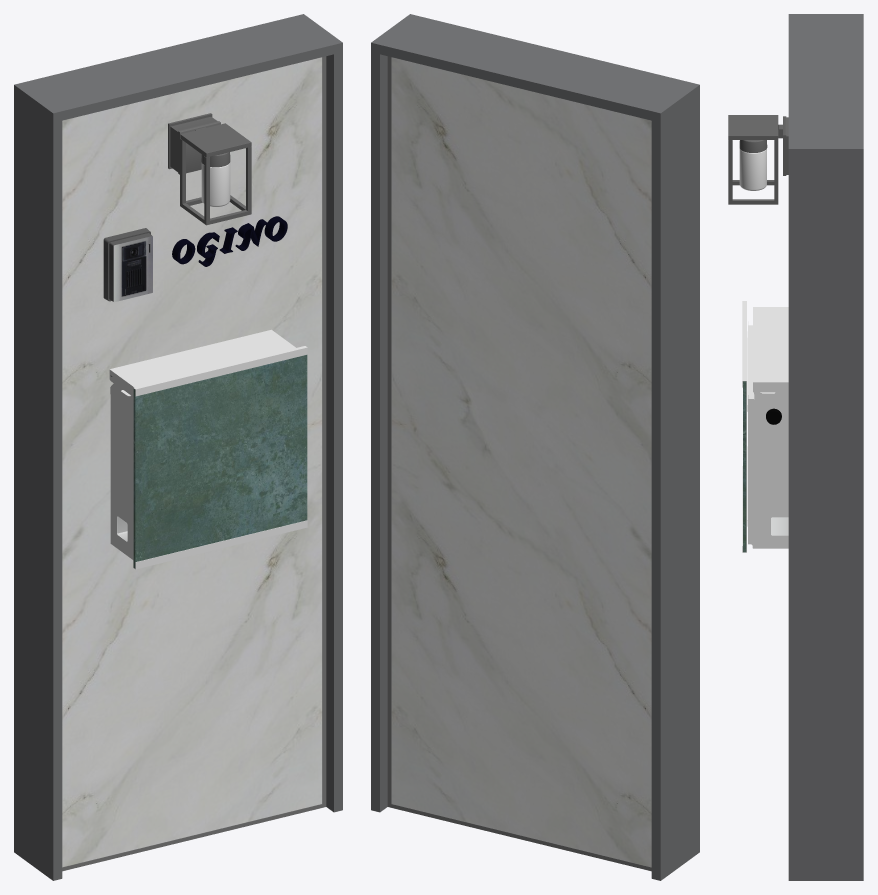
The model's file is 640-1620_aristonmaburu.fbx.
3 views of the same model, side by side, from view 1: azimuth 30°, elevation 25°; view 2: azimuth 150°, elevation 25°; view 3: azimuth 270°, elevation 25° (orthographic). The views are drawn at different scales.
Visible parts, largest first — view 1: 640-1620_aristonmaburu; view 2: 640-1620_aristonmaburu; view 3: 640-1620_aristonmaburu.
Boxes of the visible parts, x1,y1,x2,y2 form: 640-1620_aristonmaburu: [14, 14, 342, 880]; 640-1620_aristonmaburu: [371, 14, 699, 880]; 640-1620_aristonmaburu: [728, 14, 863, 880].
Size of the model in its own units: 64 by 162 by 27.12.
Materials: 13 (5 with a texture image).
